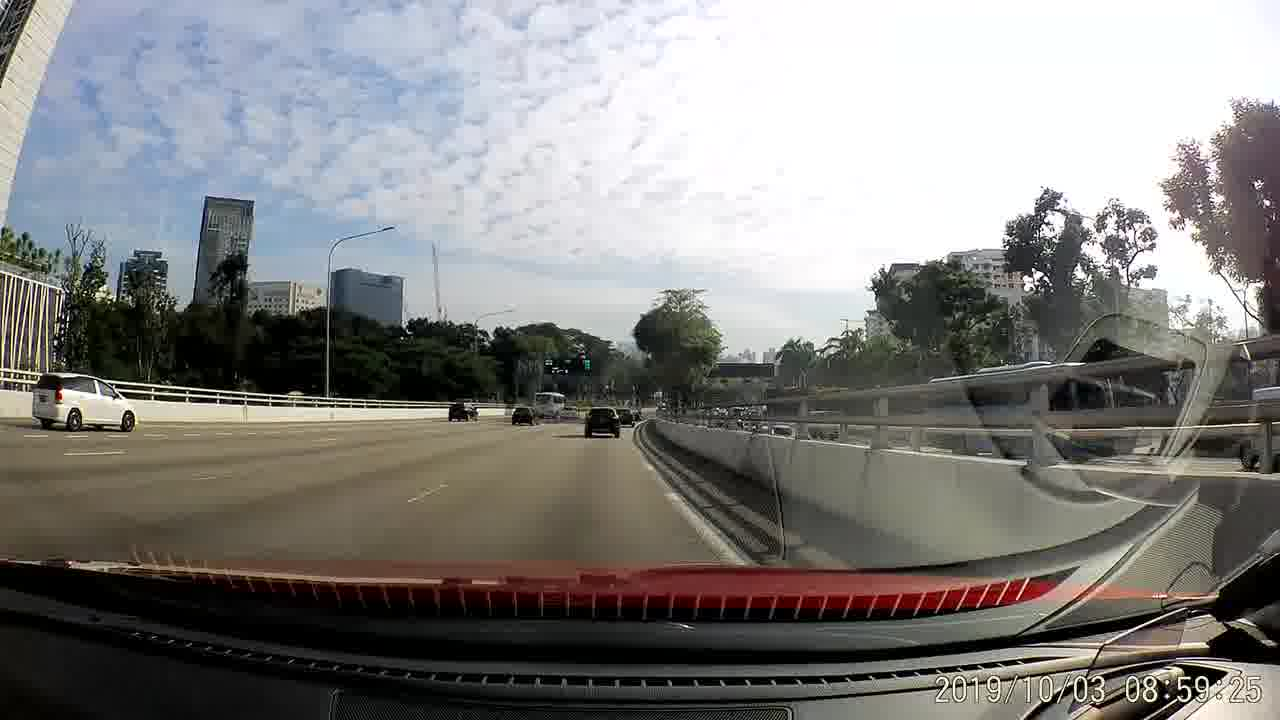bus: (530, 394, 569, 420)
car: (26, 365, 135, 433), (582, 402, 619, 439), (446, 401, 480, 421), (511, 405, 541, 425), (615, 409, 634, 428)
